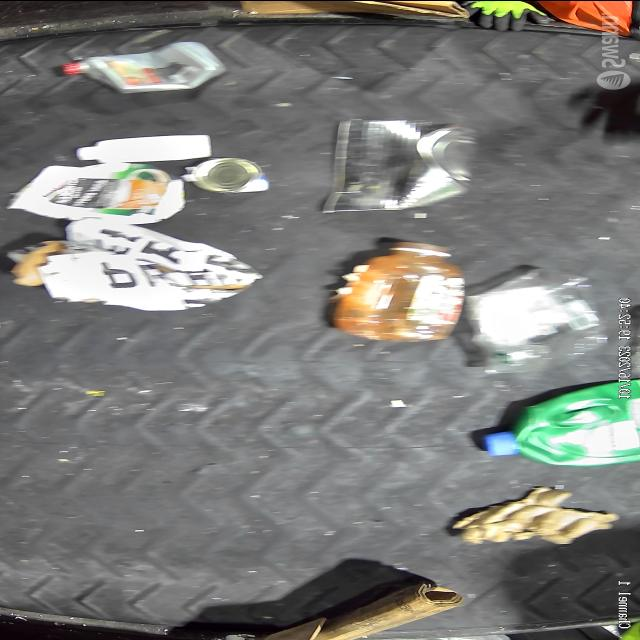can: (311, 117, 480, 211), (180, 152, 278, 192)
non_white_jug: (465, 373, 640, 465), (58, 38, 224, 96)
